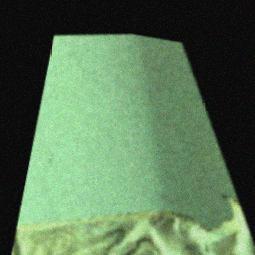vinyl_s: (12, 25, 252, 255)
